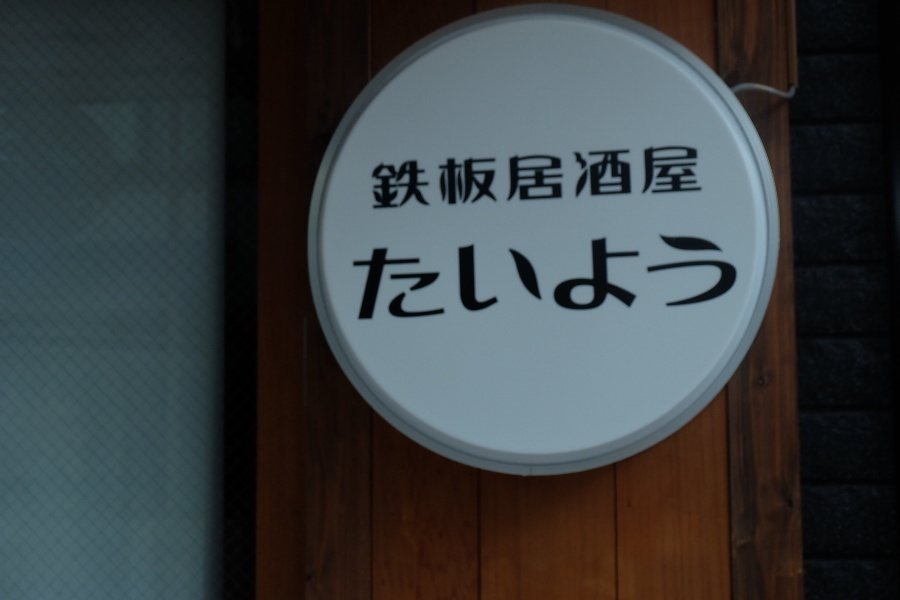text: (353, 230, 368, 325), (369, 230, 384, 325), (385, 230, 400, 325), (401, 230, 416, 325), (417, 230, 432, 325), (433, 230, 448, 325), (449, 230, 464, 325), (465, 230, 480, 325), (481, 230, 496, 325), (497, 230, 512, 325), (513, 230, 528, 325), (529, 230, 544, 325), (545, 230, 560, 325), (561, 230, 576, 325), (577, 230, 592, 325), (593, 230, 608, 325), (609, 230, 624, 325), (625, 230, 640, 325), (641, 230, 656, 325), (657, 230, 672, 325), (673, 230, 688, 325), (689, 230, 704, 325), (705, 230, 720, 325), (721, 230, 736, 325), (689, 141, 705, 212), (385, 141, 400, 212), (401, 141, 416, 212), (417, 141, 432, 212), (433, 141, 448, 212), (449, 141, 464, 212), (465, 141, 480, 212), (481, 141, 496, 212), (497, 141, 512, 212), (513, 141, 528, 212), (529, 141, 544, 212), (545, 141, 560, 212), (561, 141, 576, 212), (577, 141, 592, 212), (593, 141, 608, 212), (609, 141, 624, 212), (625, 141, 640, 212), (641, 141, 656, 212), (657, 141, 672, 212), (673, 141, 688, 212), (371, 141, 384, 212), (737, 230, 742, 325), (350, 230, 352, 325)
